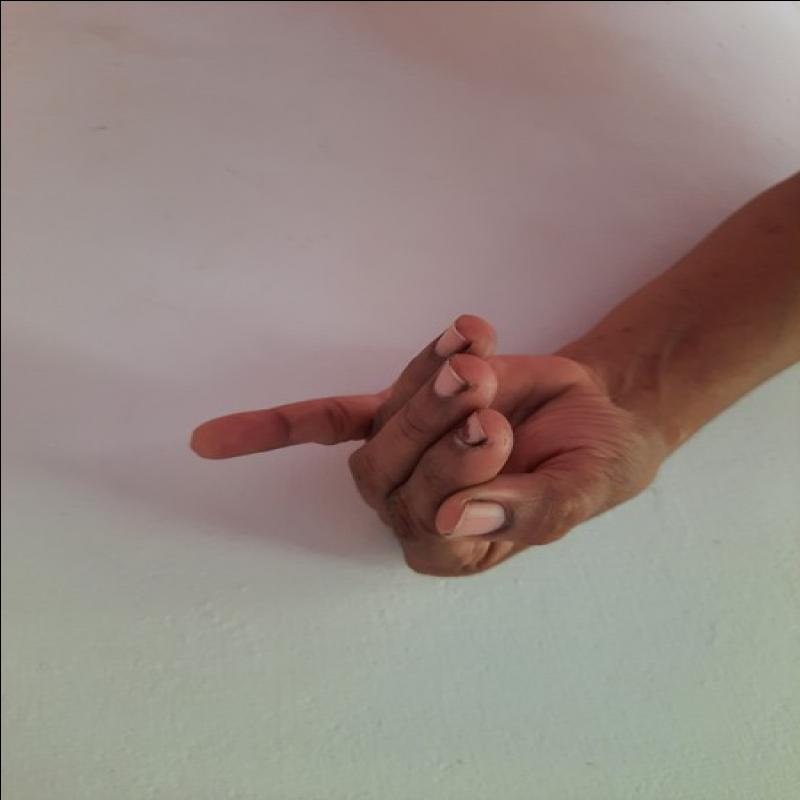Kartharee Mukham: (168, 305, 658, 584)
